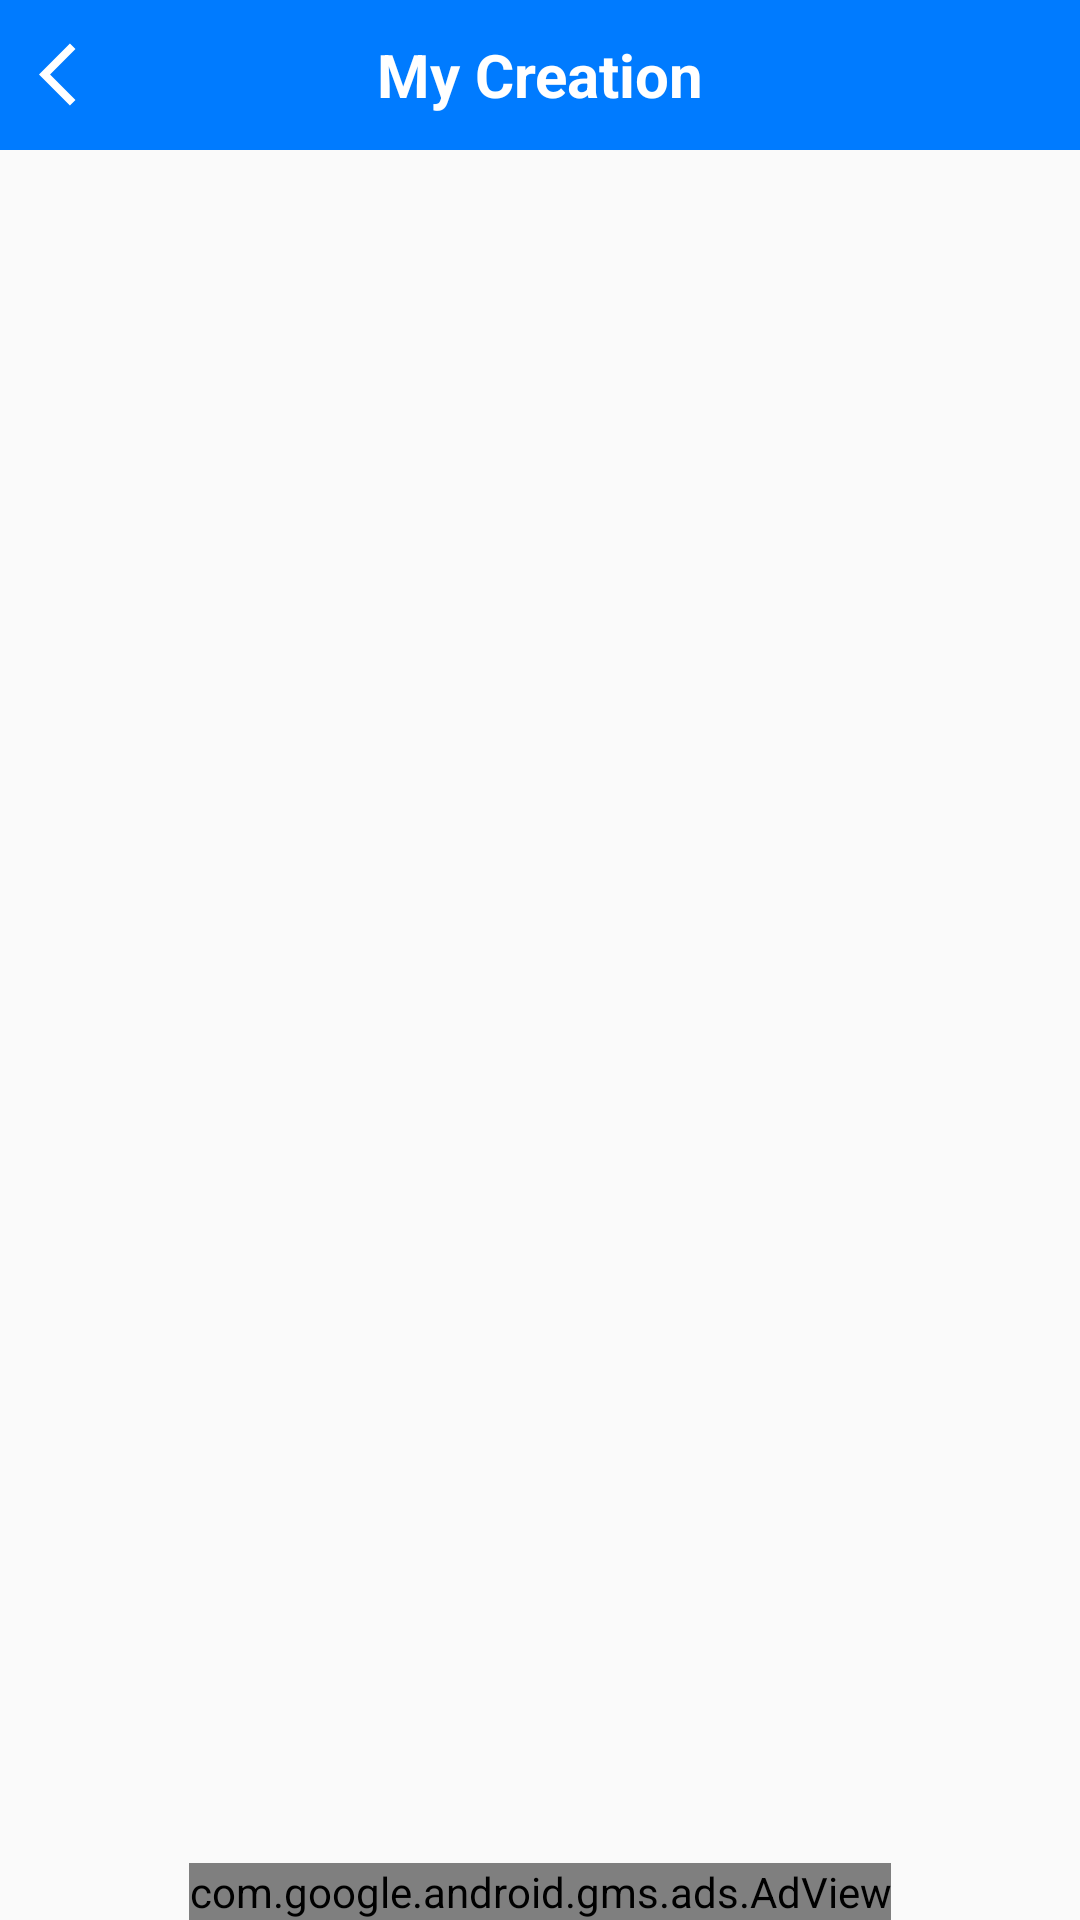

Icons on this 1080 × 1920 Android screen, each with its box as (x1, y1, x2, y2):
arrow back: (39, 43, 76, 106)
